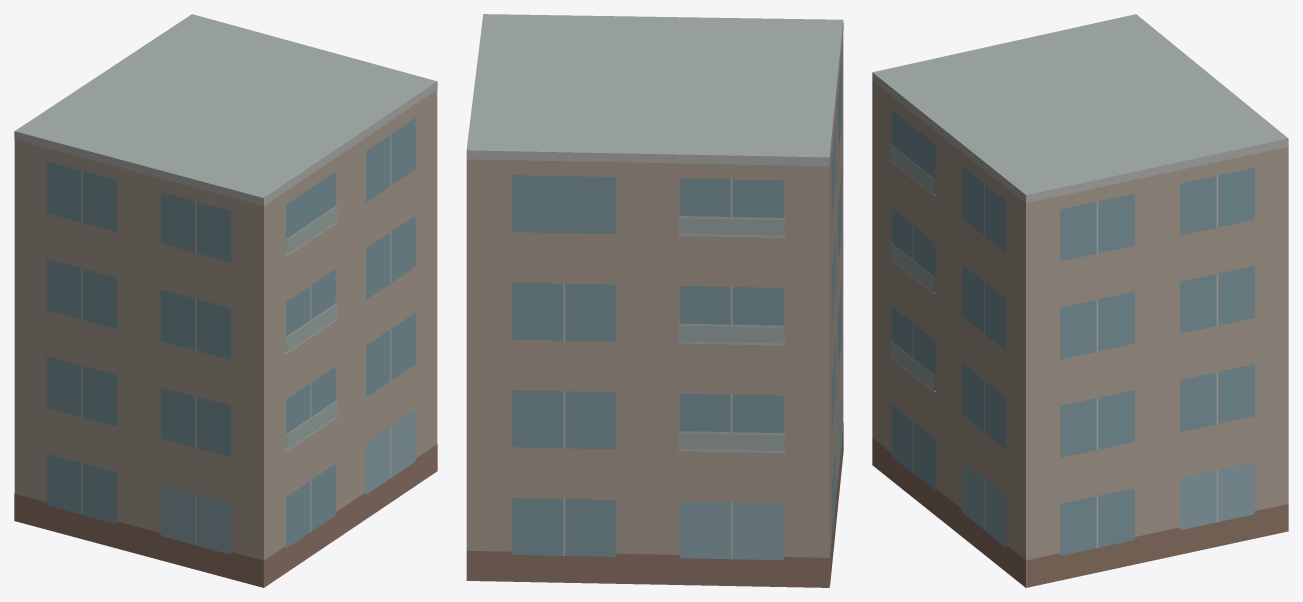
File: survey-upis-32841209.glb
3 views of the same model, side by side, from view 1: azimuth 30°, elevation 25°; view 2: azimuth 150°, elevation 25°; view 3: azimuth 270°, elevation 25° (orthographic). The views are drawn at different scales.
Visible parts, largest first — view 1: survey-upis-32841209.tmp; view 2: survey-upis-32841209.tmp; view 3: survey-upis-32841209.tmp.
Part boxes in pixels (left/top/right/bottom): survey-upis-32841209.tmp: left=14, top=14, right=437, bottom=587; survey-upis-32841209.tmp: left=466, top=14, right=843, bottom=587; survey-upis-32841209.tmp: left=872, top=14, right=1288, bottom=587.
Bounding box in the file's own units: 11.68 × 11.8 × 11.35.
